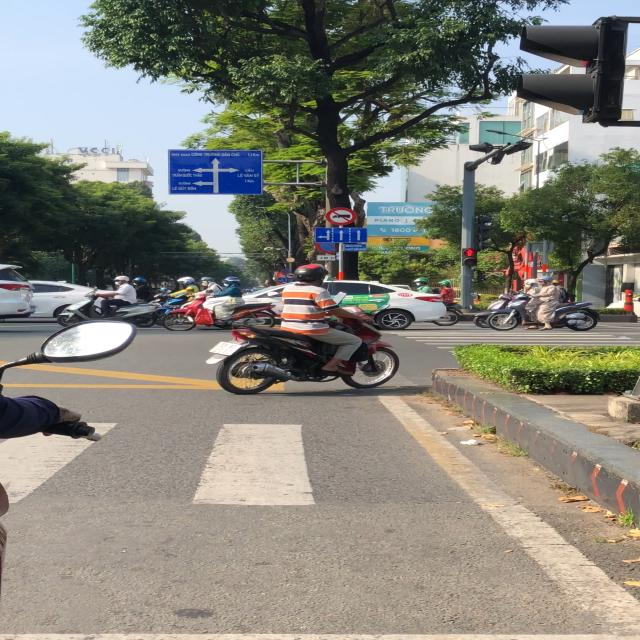Bien bao cam xe so-mi ro-mooc: (324, 206, 361, 227)
